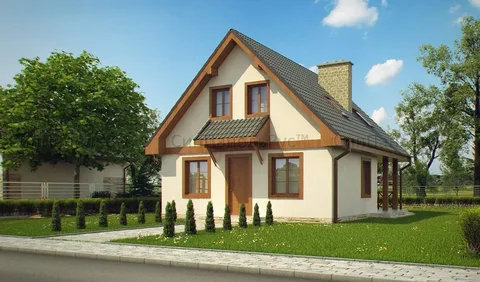private_hause: (151, 36, 397, 221)
